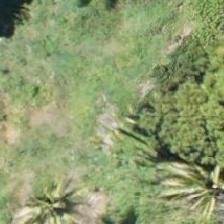coconut_tree: (16, 156, 106, 223)
